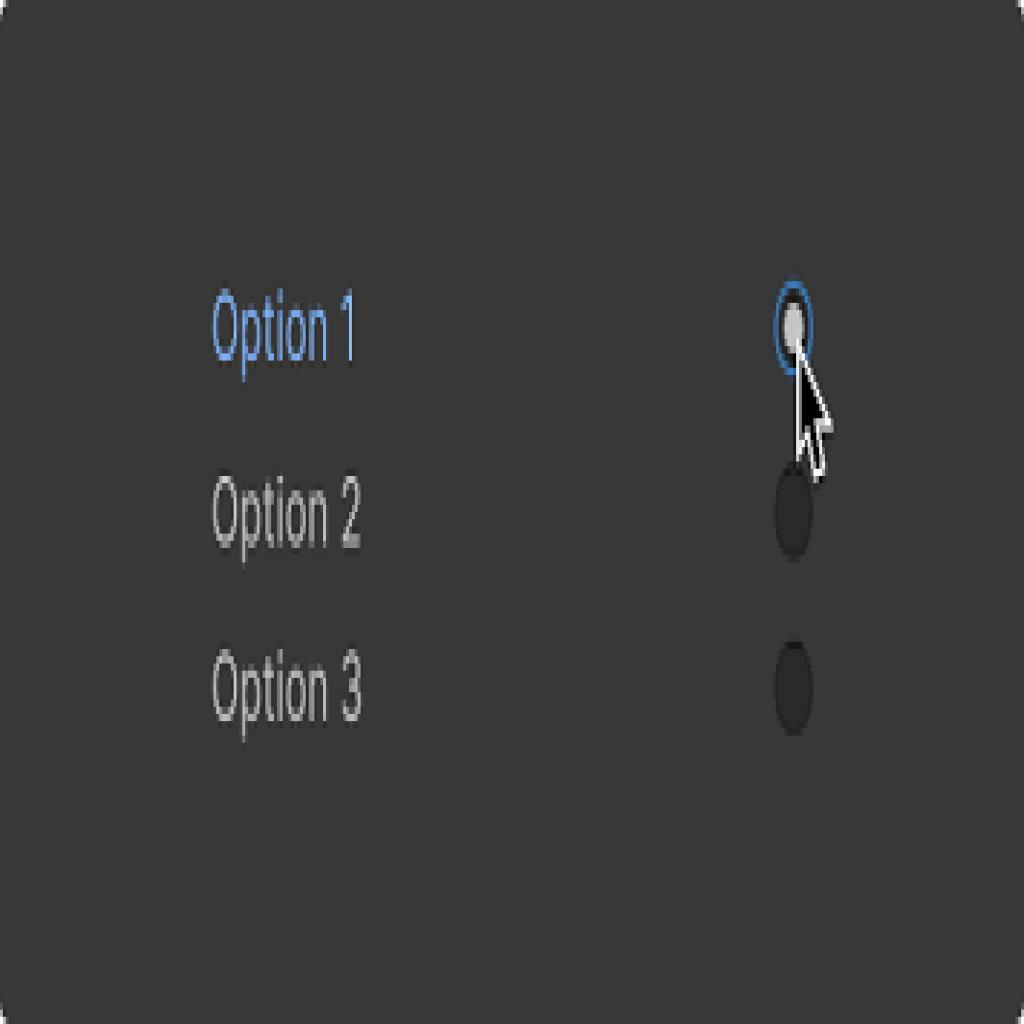radio: (768, 627, 820, 756), (768, 458, 824, 563), (774, 277, 813, 386)
